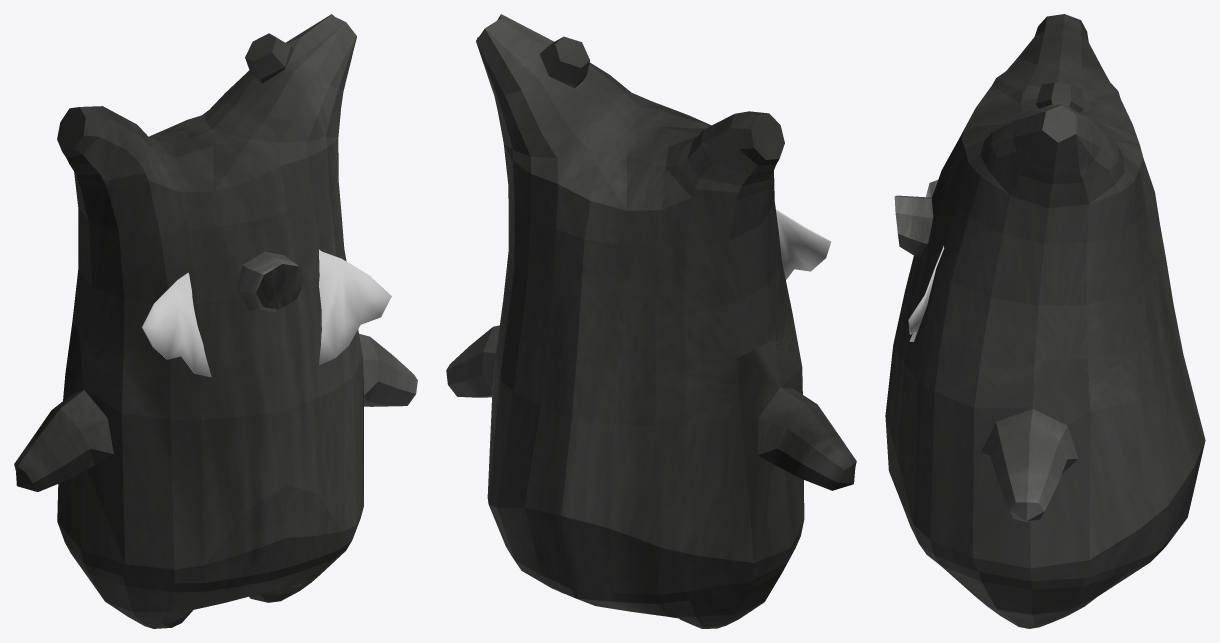
The model's file is frame_0082.obj.
3 views of the same model, side by side, from view 1: azimuth 30°, elevation 25°; view 2: azimuth 150°, elevation 25°; view 3: azimuth 270°, elevation 25° (orthographic). The views are drawn at different scales.
Parts seen in each view (by area): view 1: korok, leaf, nose; view 2: korok, leaf; view 3: korok, nose, leaf.
Boxes of the visible parts, <box> form: korok: <box>14,14,417,628</box>; leaf: <box>141,249,391,377</box>; nose: <box>236,251,304,313</box>; korok: <box>446,14,856,628</box>; leaf: <box>776,209,831,279</box>; korok: <box>885,14,1205,628</box>; nose: <box>894,195,933,258</box>; leaf: <box>908,180,944,341</box>.
Size of the model in its own units: 1.67 by 2.24 by 1.17.
